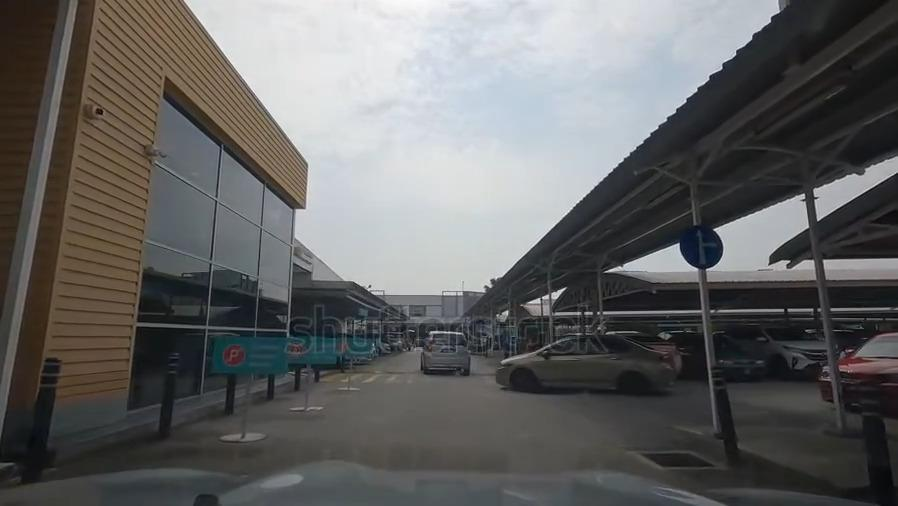car: (497, 338, 670, 392), (823, 339, 898, 407), (672, 331, 766, 385), (742, 326, 839, 370), (419, 330, 472, 375), (630, 331, 680, 376)
manhole: (639, 447, 713, 475)
pedestrian: (316, 374, 516, 384)
speedbump: (348, 364, 499, 379)
